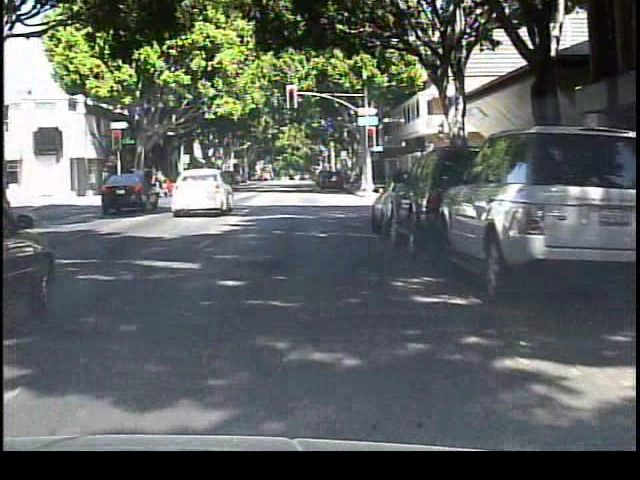person: (153, 164, 171, 199)
